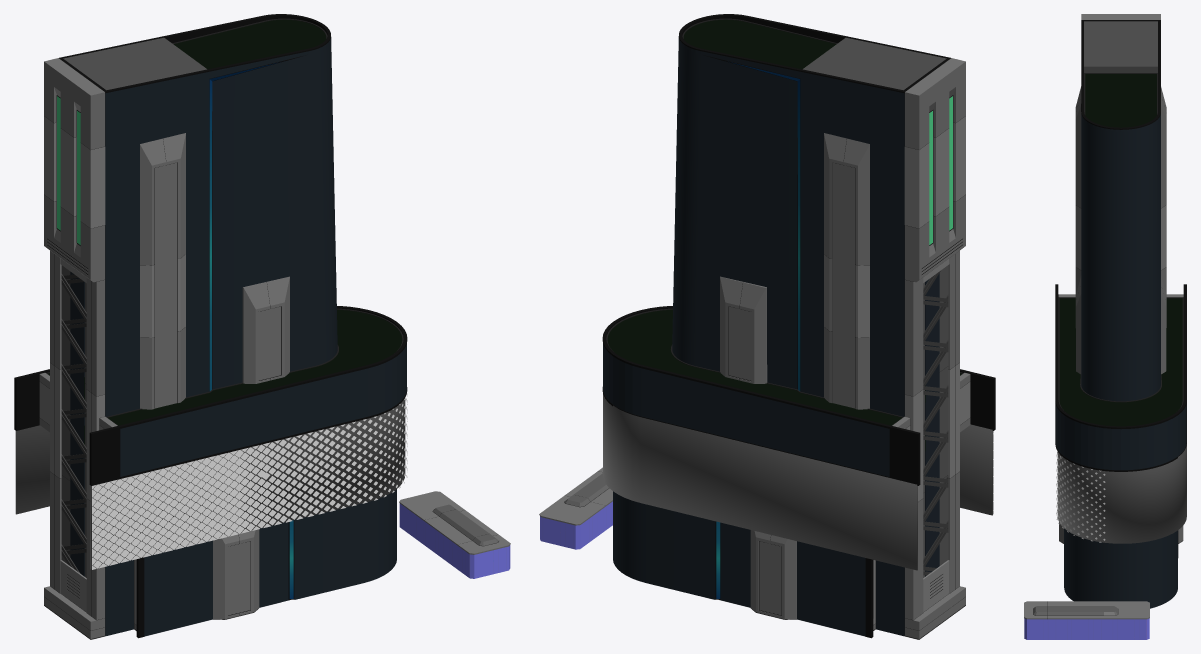
File: Building_005_2st_L0.fbx
3 views of the same model, side by side, from view 1: azimuth 30°, elevation 25°; view 2: azimuth 150°, elevation 25°; view 3: azimuth 270°, elevation 25° (orthographic). The views are drawn at different scales.
Visible parts, largest first — view 1: Building_005_2st_L0; view 2: Building_005_2st_L0; view 3: Building_005_2st_L0.
Boxes of the visible parts, x1,y1,x2,y2 form: Building_005_2st_L0: [14, 14, 510, 639]; Building_005_2st_L0: [539, 14, 995, 639]; Building_005_2st_L0: [1024, 14, 1186, 639].
Bounding box in the file's own units: 69.63 × 28.62 × 90.
